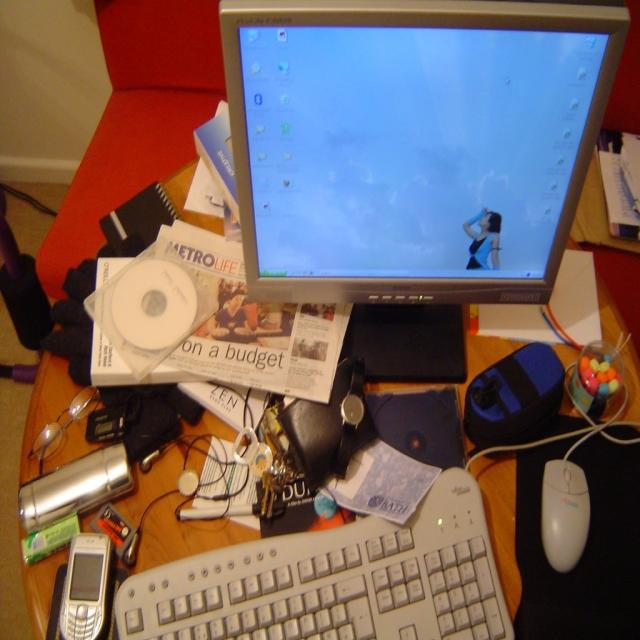E-waste: (12, 8, 634, 640)
